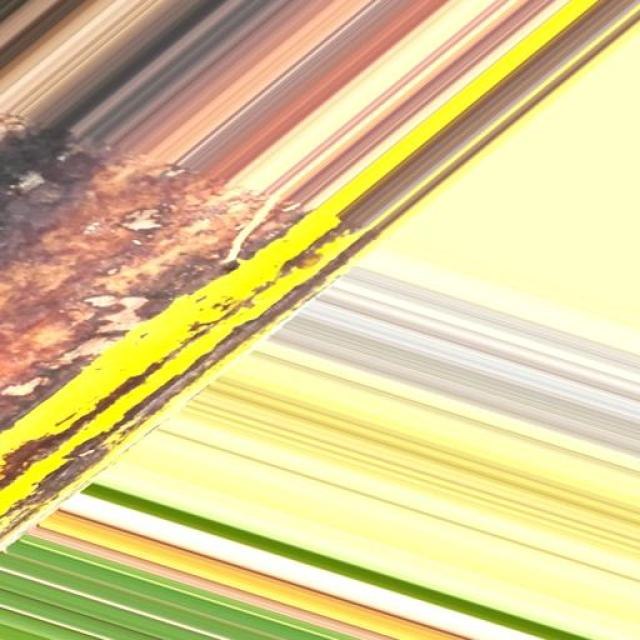Anthracnose: (0, 61, 437, 594)
